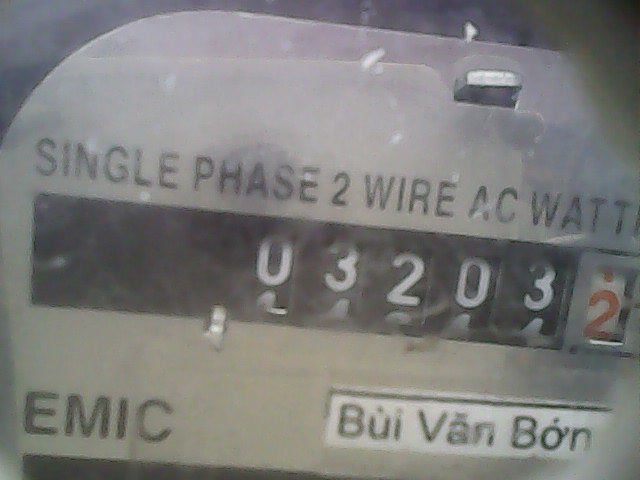phy_plate: (228, 210, 637, 358)
